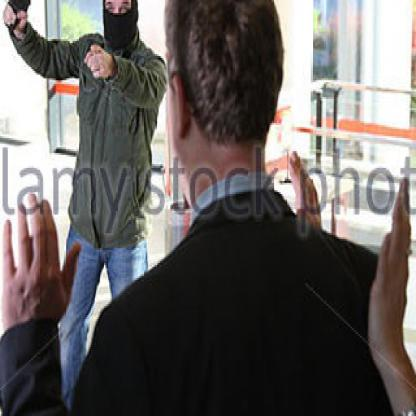gun: (0, 0, 35, 39)
